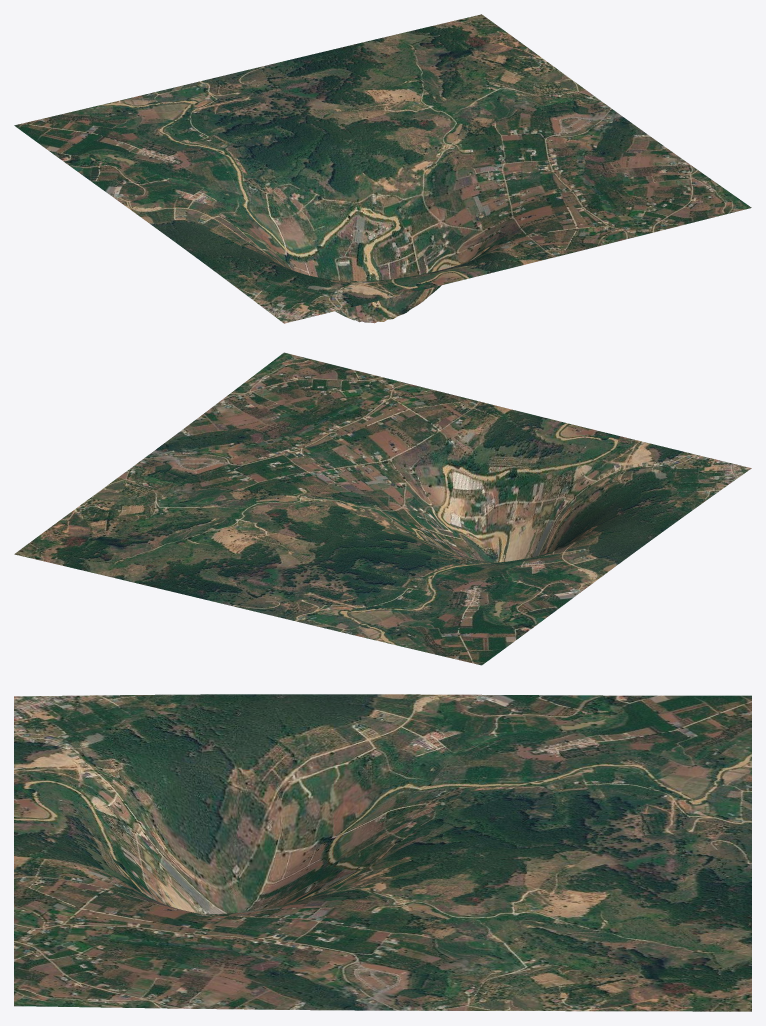
The model's file is terrain_real_T_W05_S04.glb.
3 views of the same model, one above another, from view 1: azimuth 30°, elevation 25°; view 2: azimuth 150°, elevation 25°; view 3: azimuth 270°, elevation 25° (orthographic). The views are drawn at different scales.
Visible parts, largest first — view 1: Terrain_Real_DEM_T_W05_S04; view 2: Terrain_Real_DEM_T_W05_S04; view 3: Terrain_Real_DEM_T_W05_S04.
Part boxes in pixels (x1=…): Terrain_Real_DEM_T_W05_S04: x1=14, y1=14, x2=751, y2=323; Terrain_Real_DEM_T_W05_S04: x1=14, y1=352, x2=751, y2=665; Terrain_Real_DEM_T_W05_S04: x1=14, y1=694, x2=751, y2=1011.
Size of the model in its own units: 2000 by 392 by 2000.
1 material, 1 textured.
